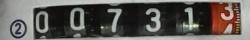digits: (218, 0, 236, 35), (144, 7, 161, 32), (107, 7, 122, 32), (69, 7, 85, 30), (34, 11, 50, 33), (184, 7, 194, 30)
